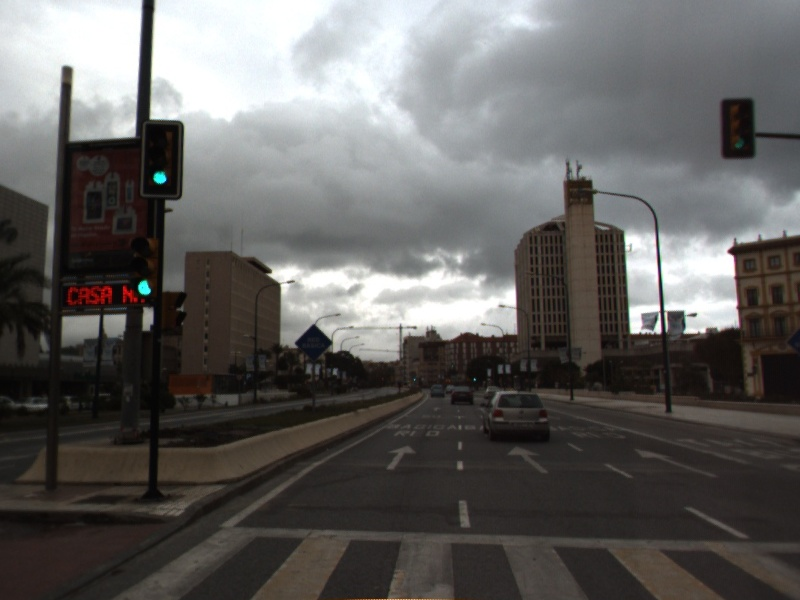STRAIGHT: (631, 446, 721, 481), (504, 443, 551, 475), (383, 443, 419, 472)
